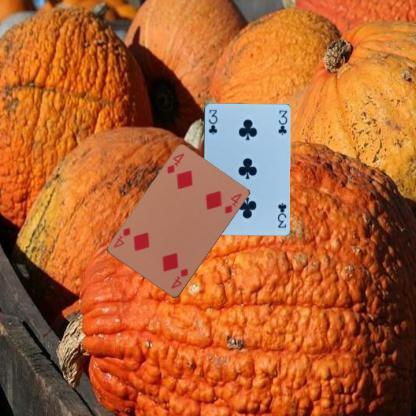3c: (275, 200, 288, 229), (206, 107, 218, 136)
4d: (164, 150, 186, 176), (168, 266, 190, 290)
